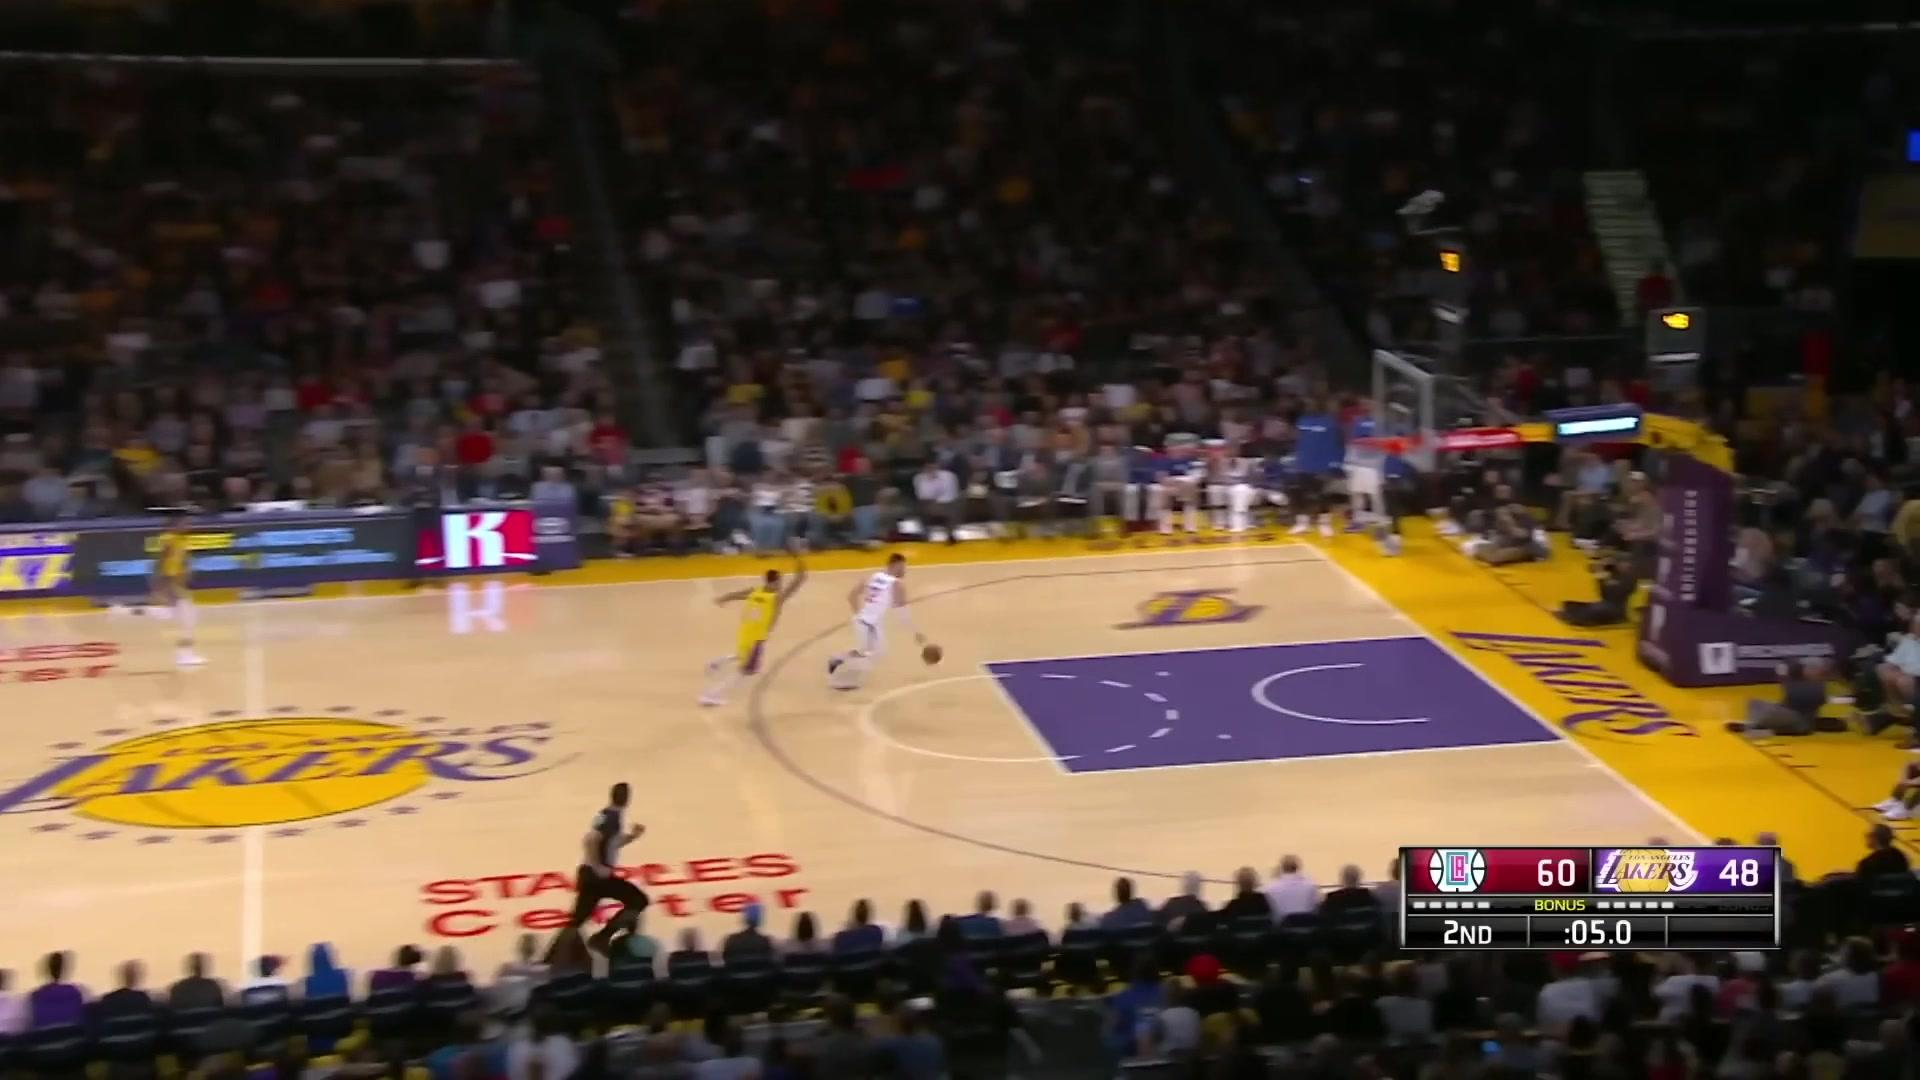no_foul: (694, 522, 950, 684)
